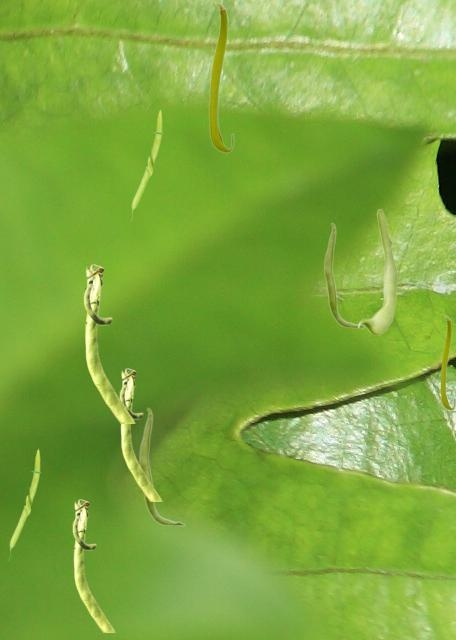french_bean: (83, 264, 134, 422), (119, 368, 161, 500), (72, 499, 114, 631), (138, 407, 184, 526), (357, 208, 396, 334), (323, 222, 364, 328), (208, 1, 233, 152), (8, 447, 40, 560), (130, 108, 162, 221), (440, 315, 454, 409)
